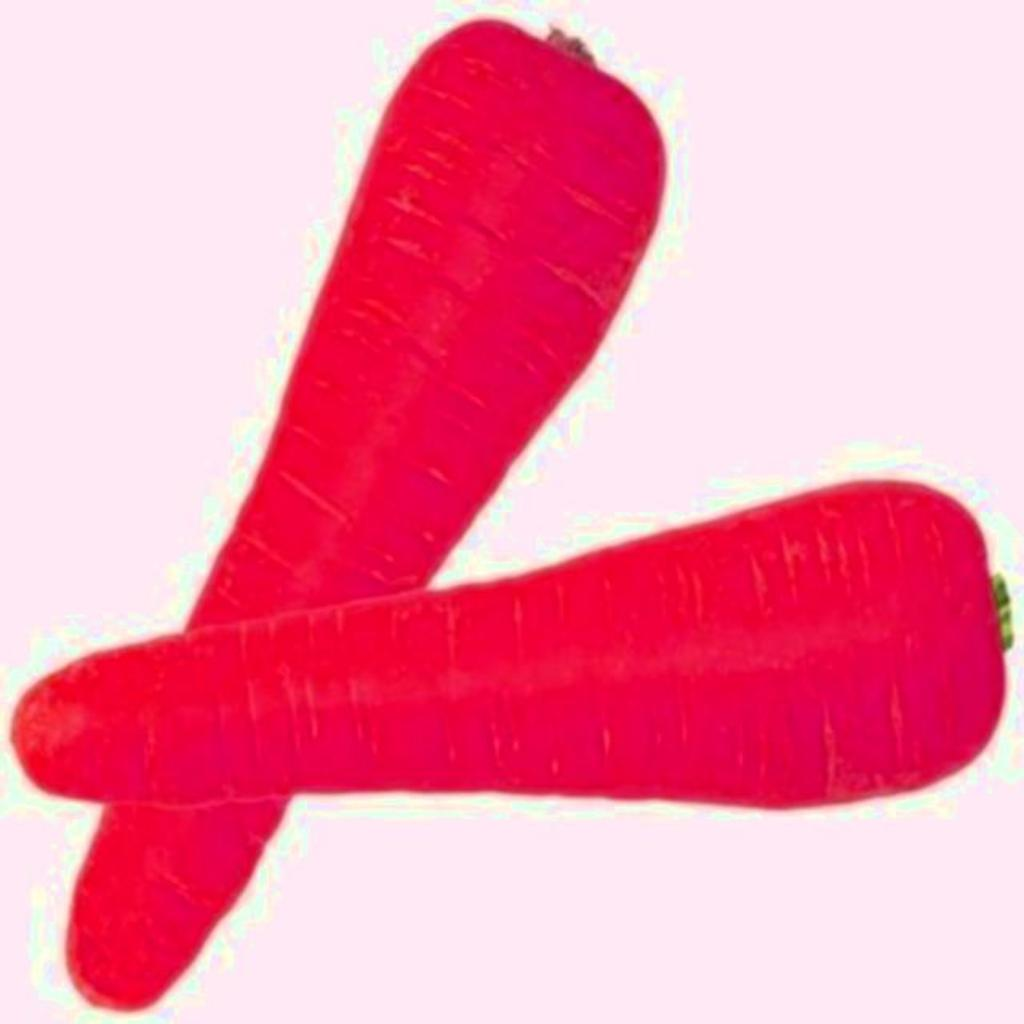carrot: (68, 22, 664, 1011), (14, 482, 1004, 806)
